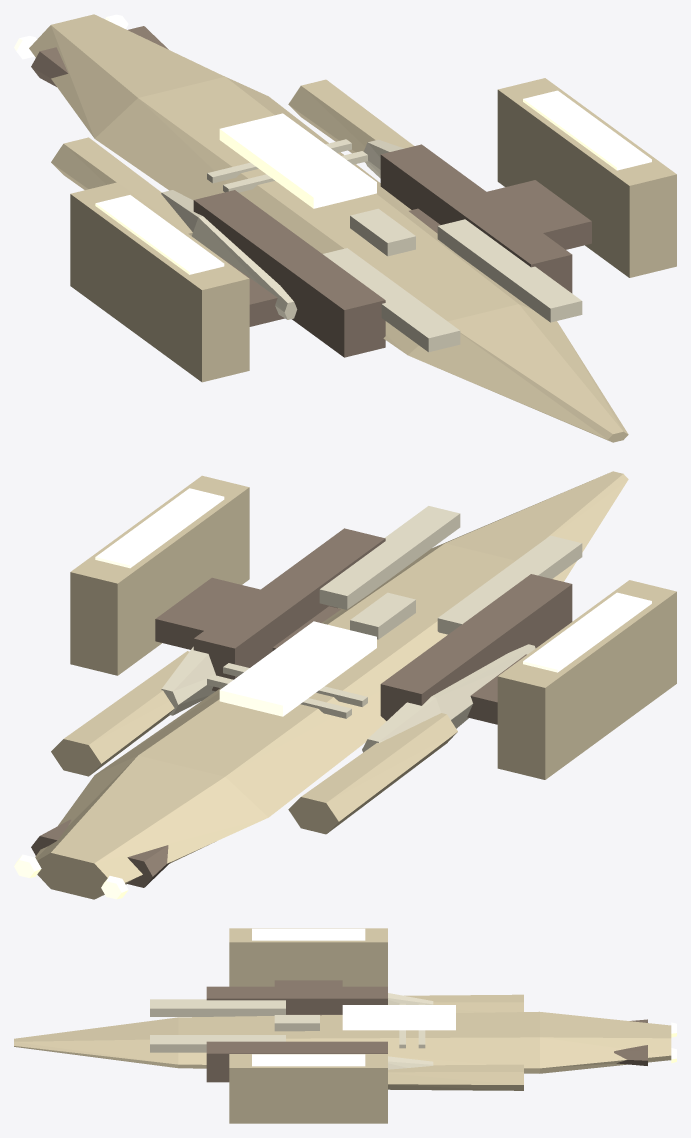
3 renders of one model, top to bottom at view 1: azimuth 30°, elevation 25°; view 2: azimuth 150°, elevation 25°; view 3: azimuth 270°, elevation 25°, orthographic. The views are drawn at different scales.
Bounding box in the file's own units: 6.12 × 1.32 × 12.29.
